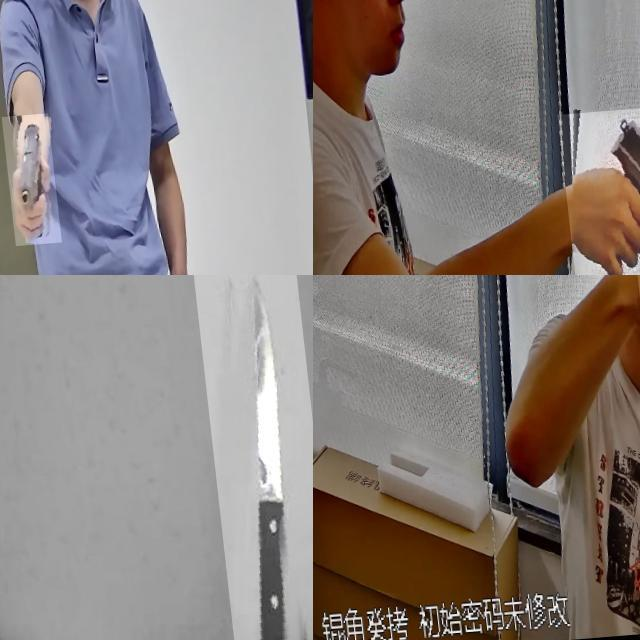-: (189, 275, 313, 640)
gun-knife-thesis - v11 Yolov5 augmented: (550, 109, 640, 275), (0, 118, 54, 249)
